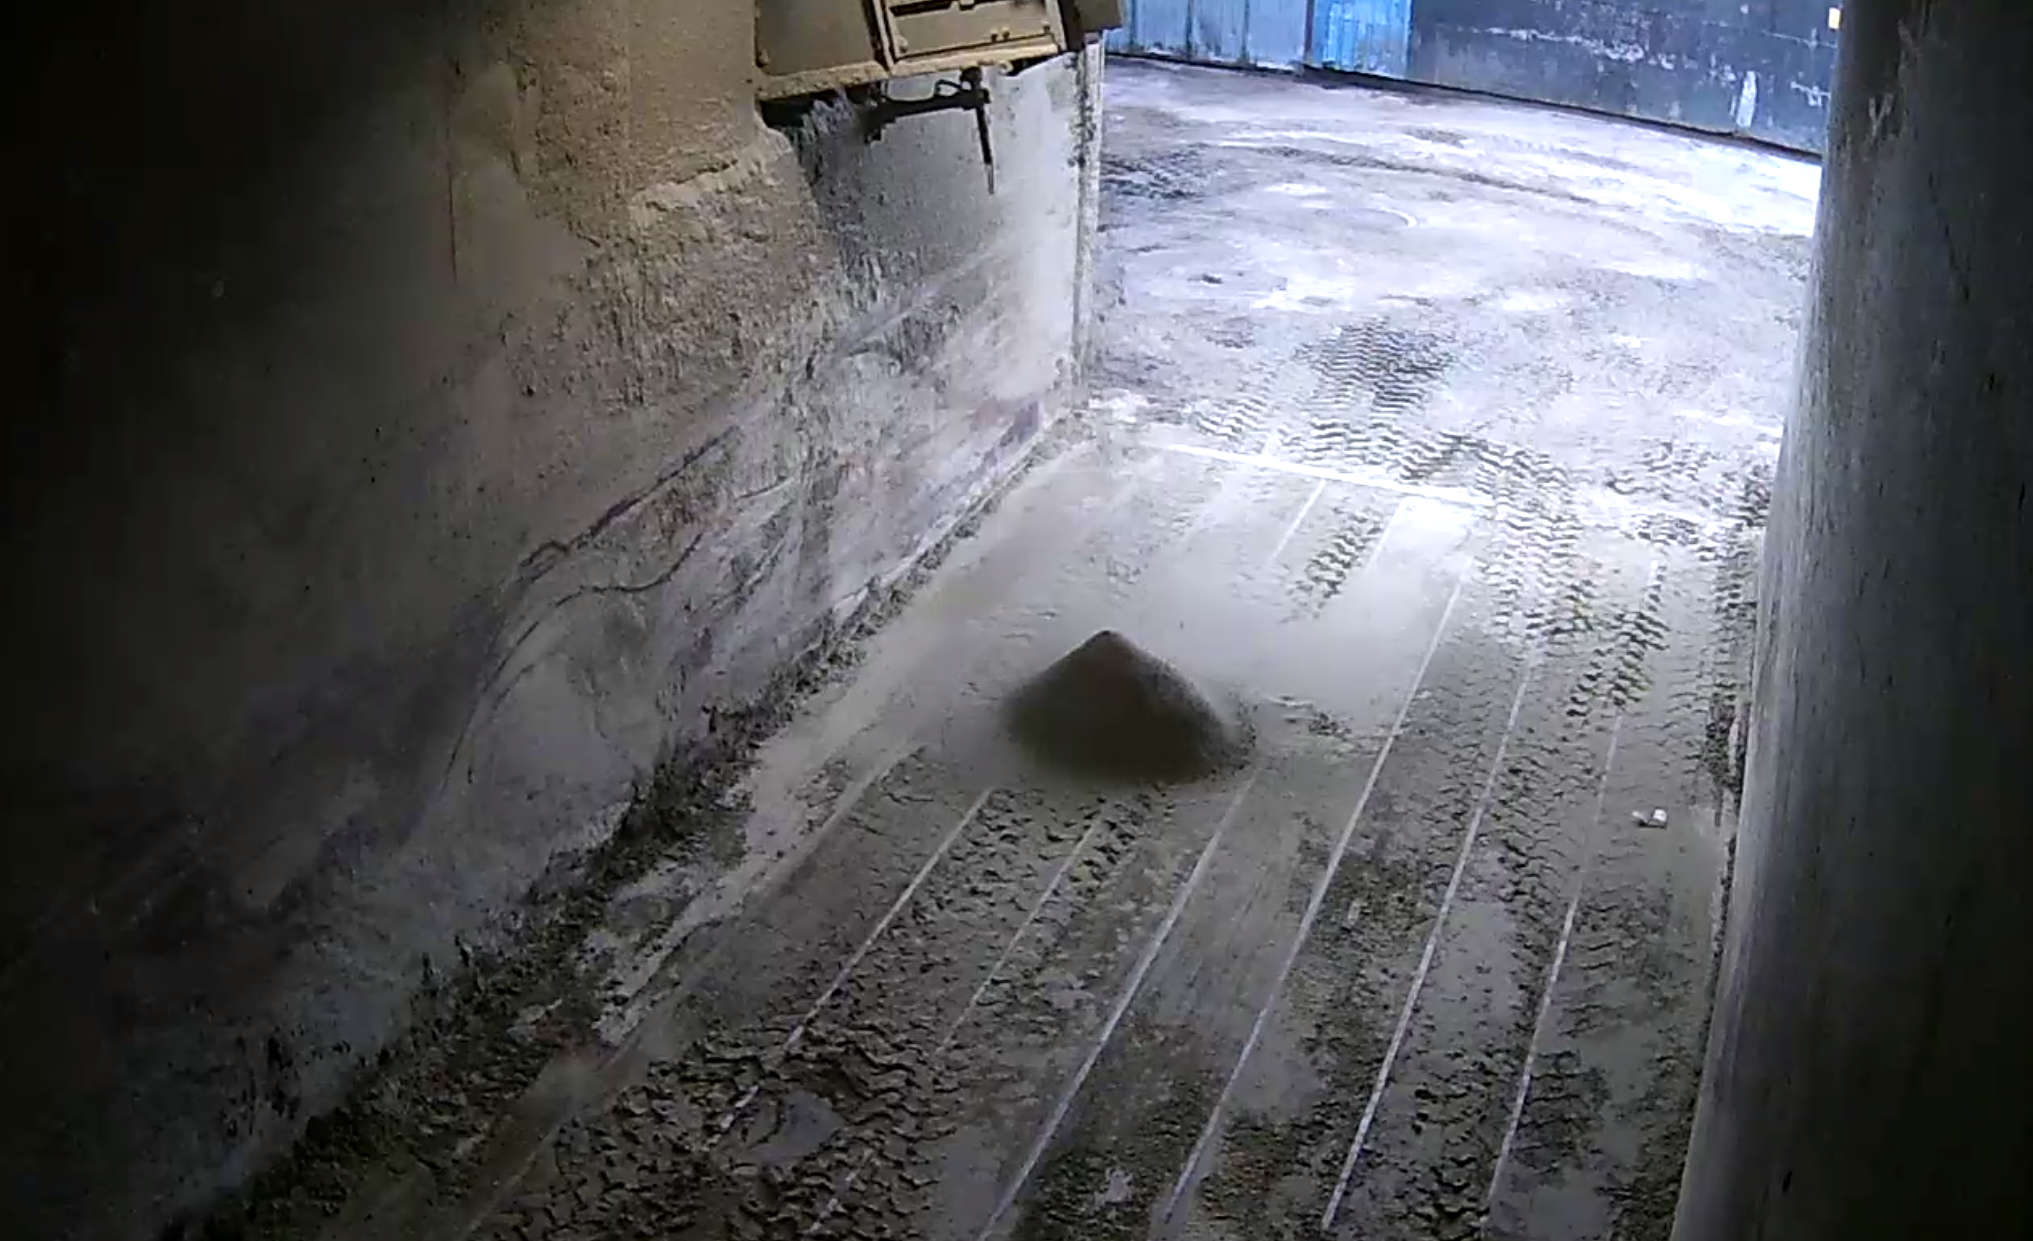pile: (995, 628, 1250, 791)
